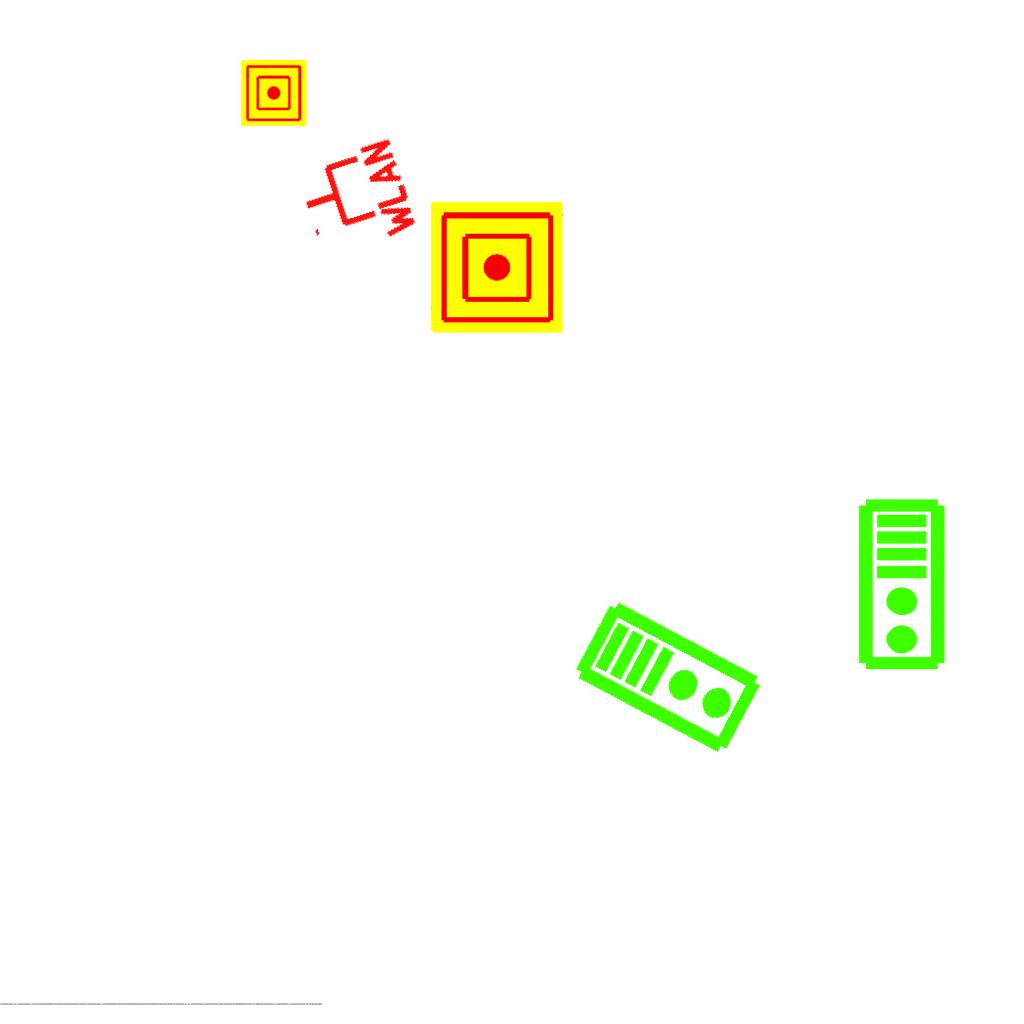Gegensprechanlage_mit_Video: (569, 592, 770, 760), (856, 497, 951, 673)
NAM-Nichtautomatischer_Melder: (431, 201, 563, 333), (241, 60, 307, 126)
WLAN: (289, 133, 422, 265)
